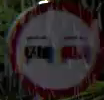No overtake: (8, 0, 101, 97)
